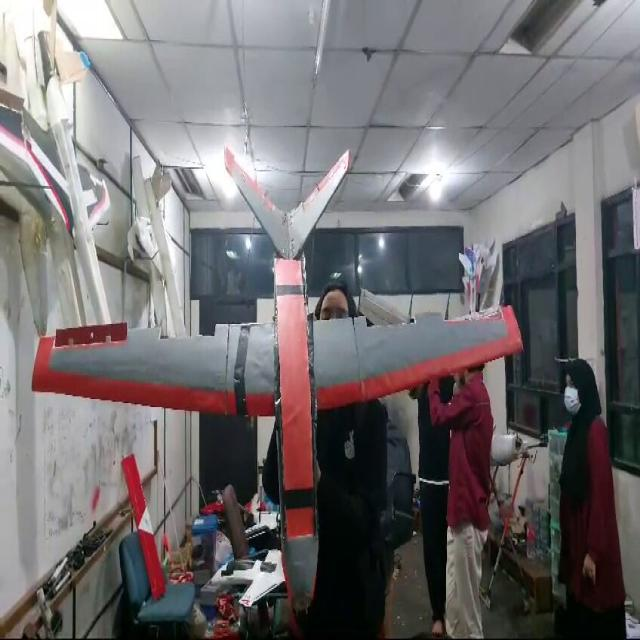plane: (31, 143, 524, 632)
